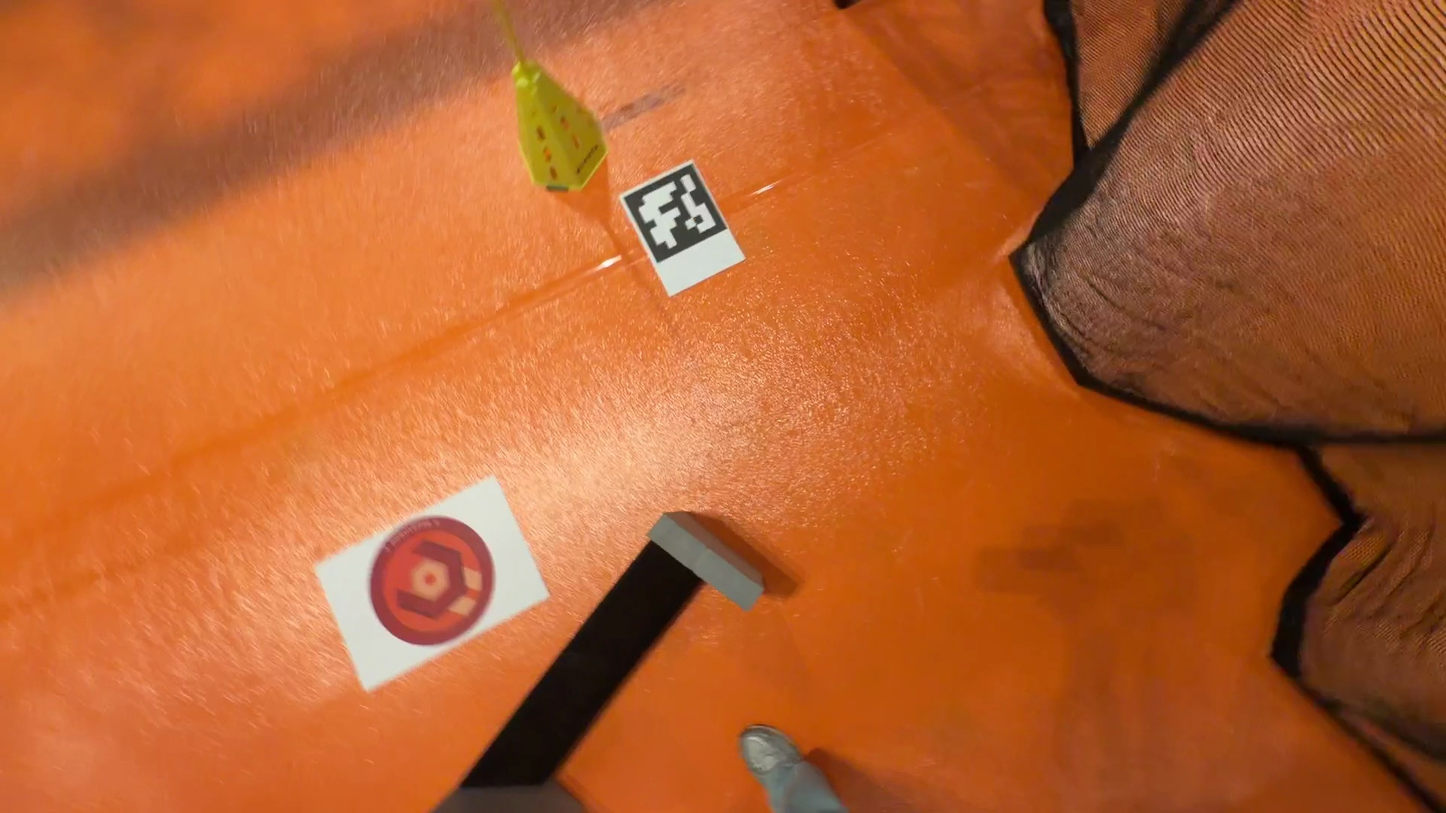landing_pad: (369, 514, 496, 650)
